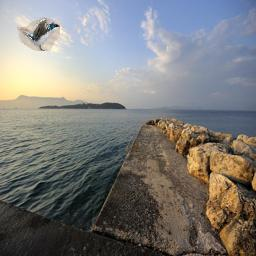Swallow: (18, 17, 61, 51)
